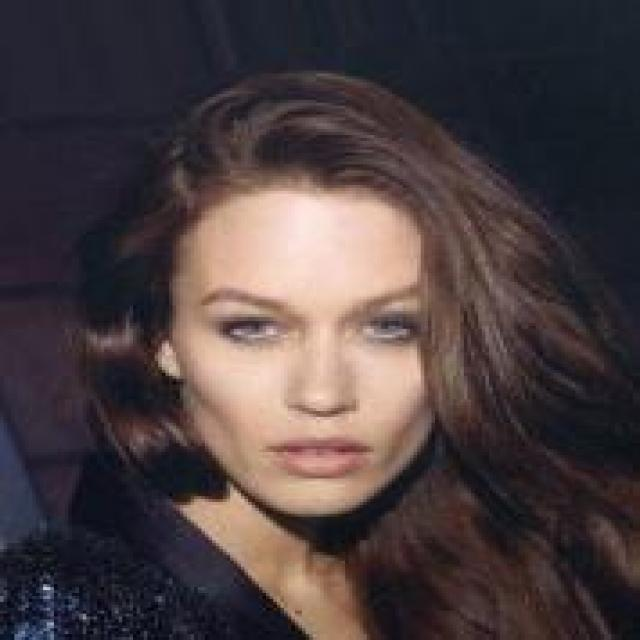nomask: (126, 118, 539, 534)
